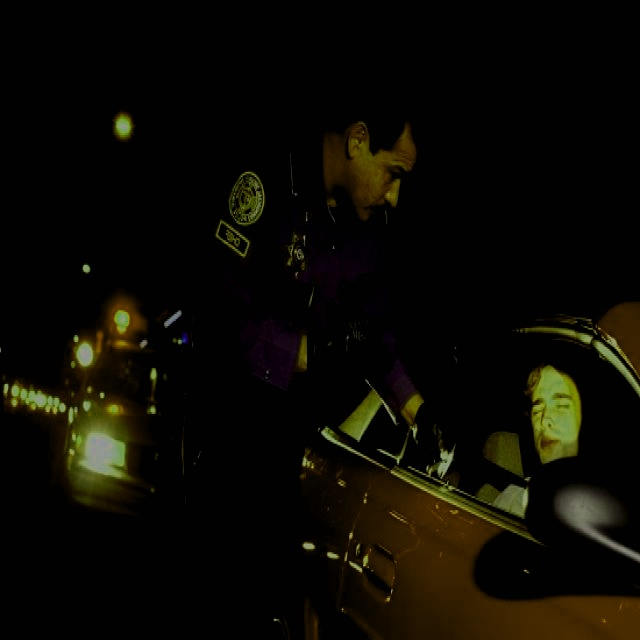Sin_Casco_Mascarrilla: (339, 57, 424, 222), (525, 355, 586, 468)
